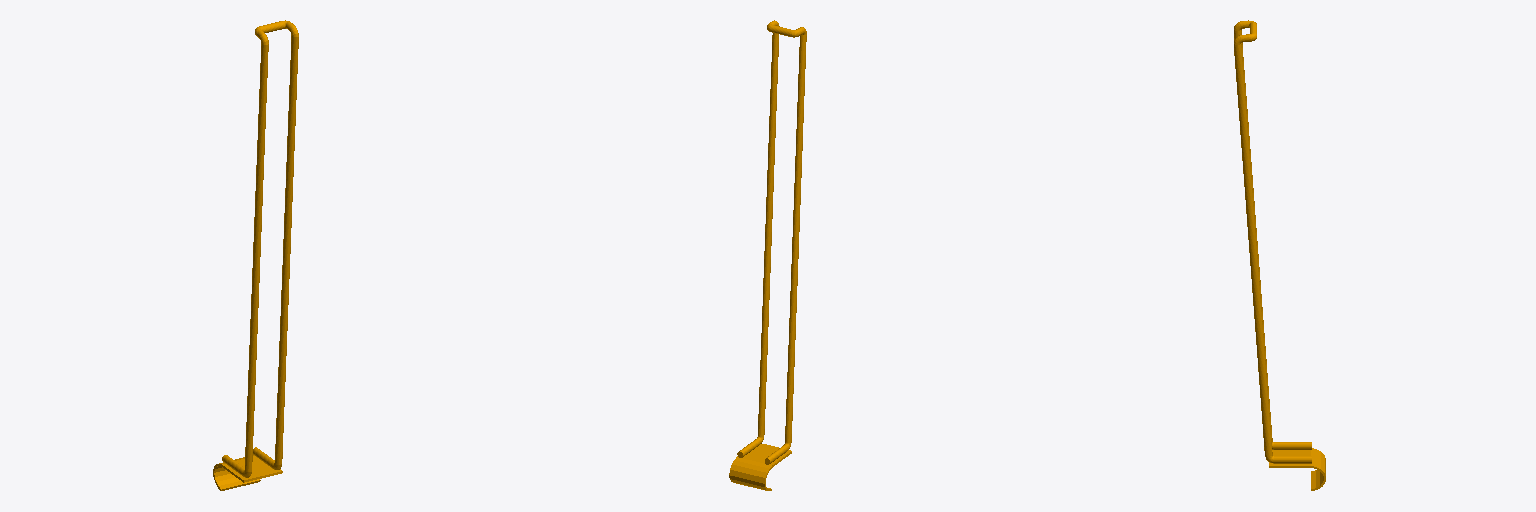
URDF robot description (cube.urdf):
<?xml version="1.0" ?>
<robot name="cube.urdf">
  <link name="legobrick">
    <contact>
      <lateral_friction value="1.0"/>
      <rolling_friction value="0.0"/>
      <contact_cfm value="0.0"/>
      <contact_erp value="1.0"/>
    </contact>
    <inertial>
      <origin rpy="0 0 0" xyz="0.0 0.0 0.0"/>
       <mass value=".1"/>
       <inertia ixx="1" ixy="0" ixz="0" iyy="1" iyz="0" izz="1"/>
    </inertial>
    <visual>
      <origin xyz="0 0 0" rpy="0 0 0"/>
      <geometry>
        <mesh filename="SM_ShelfMetalHold_72.obj" scale="1 1 1"/>
      </geometry>
      <material name="Blanc"/>
    </visual>
    <collision>
      <origin xyz="0 0 0" rpy="0 0 0"/>
      <geometry>
	 	     <mesh filename="SM_ShelfMetalHold_72.obj" scale="0.5 1 1"/>
      </geometry>
    </collision>
  </link>
</robot>

--- Facts derived from the render (not from the file) ---
The picture shows the robot from 3 angles, left to right: view 1: azimuth 30°, elevation 25°; view 2: azimuth 150°, elevation 25°; view 3: azimuth 270°, elevation 25°; orthographic projection.
Robot: cube.urdf — 1 links, 0 joints (none); root link legobrick; default pose: all joints at 0.
Links seen in each view (by area): view 1: legobrick; view 2: legobrick; view 3: legobrick.
Boxes of the visible links, left/top/right/bottom form: legobrick: left=213, top=20, right=298, bottom=490; legobrick: left=729, top=20, right=806, bottom=490; legobrick: left=1234, top=20, right=1325, bottom=490.
Bounding box of the posed robot: 0.027 × 0.0589 × 0.3185 m (x, y, z).
Meshes: 1 distinct files referenced, 1 mesh visuals loaded (1 OBJ).
